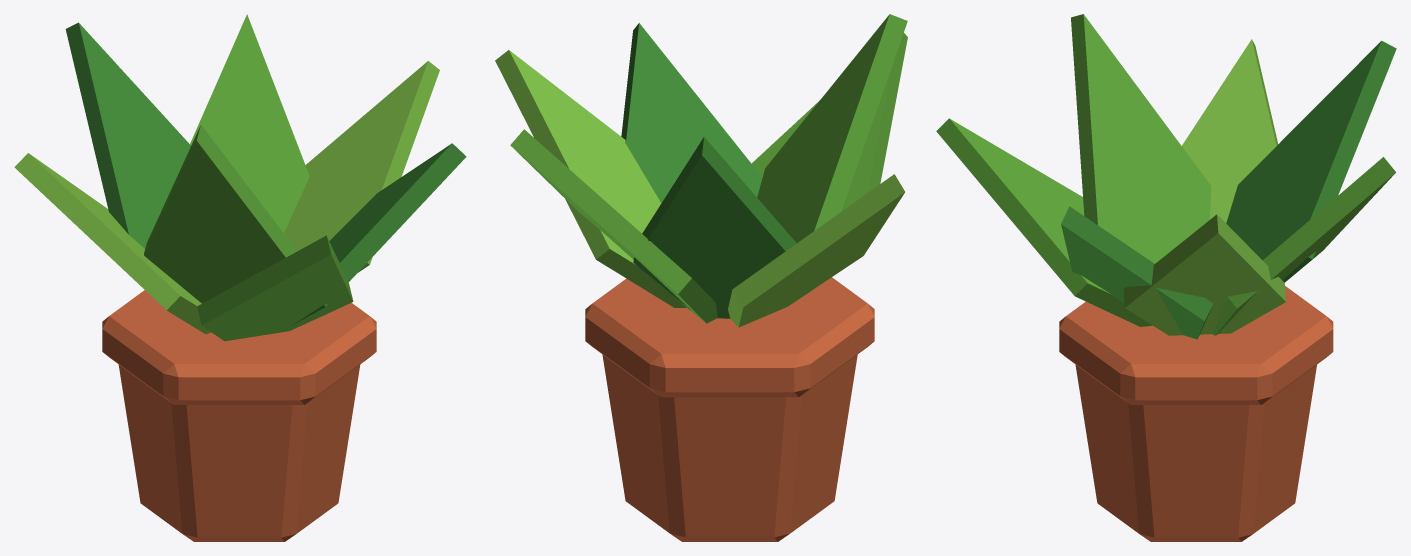
File: plant_broadleaf.glb
3 renders of one model, left to right at view 1: azimuth 30°, elevation 25°; view 2: azimuth 150°, elevation 25°; view 3: azimuth 270°, elevation 25°, orthographic. The views are drawn at different scales.
Visible parts, largest first — view 1: plant_broadleaf; view 2: plant_broadleaf; view 3: plant_broadleaf.
Part boxes in pixels (bbox=[...]): plant_broadleaf: bbox=[14, 14, 466, 541]; plant_broadleaf: bbox=[495, 14, 907, 541]; plant_broadleaf: bbox=[936, 14, 1396, 541].
Size of the model in its own units: 0.4646 by 0.4891 by 0.4552.
